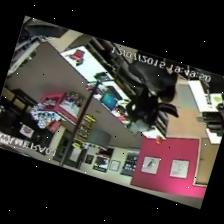person: (130, 50, 178, 102), (126, 87, 159, 131)
